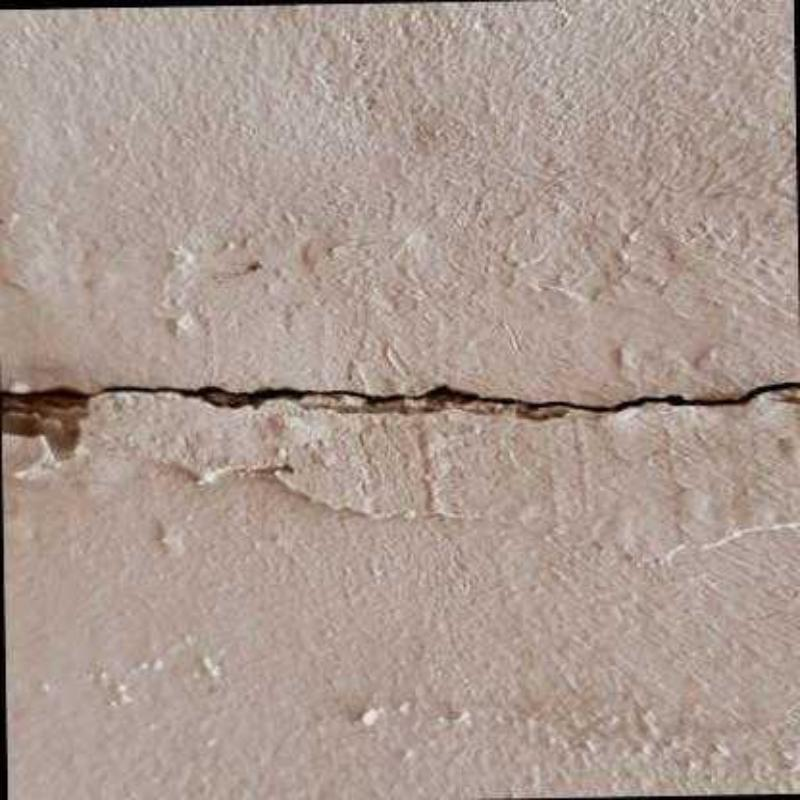pothole: (0, 382, 798, 413)
